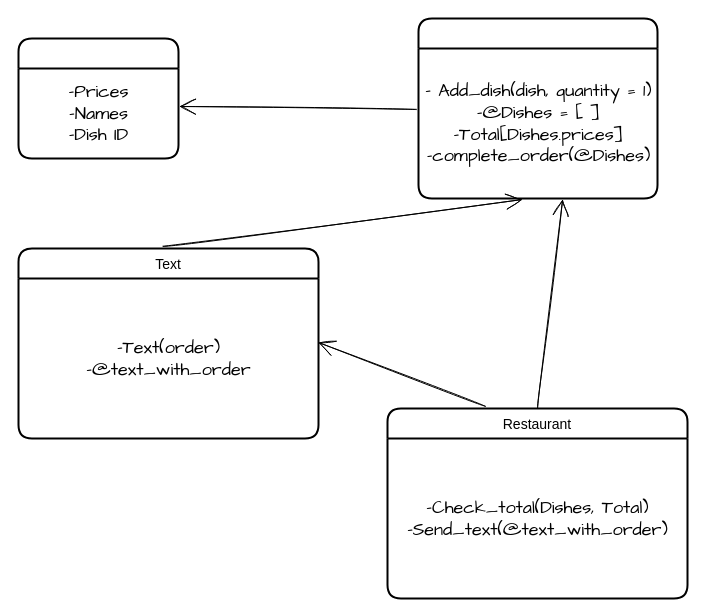
Some shapes in this 705 by 616 pixel diagram are drawn without their labels. The box of each missing label's shape, as (x1, y1, x2, y2) in pixels:
Dishes: (17, 37, 179, 159)
Orders: (417, 17, 658, 199)
